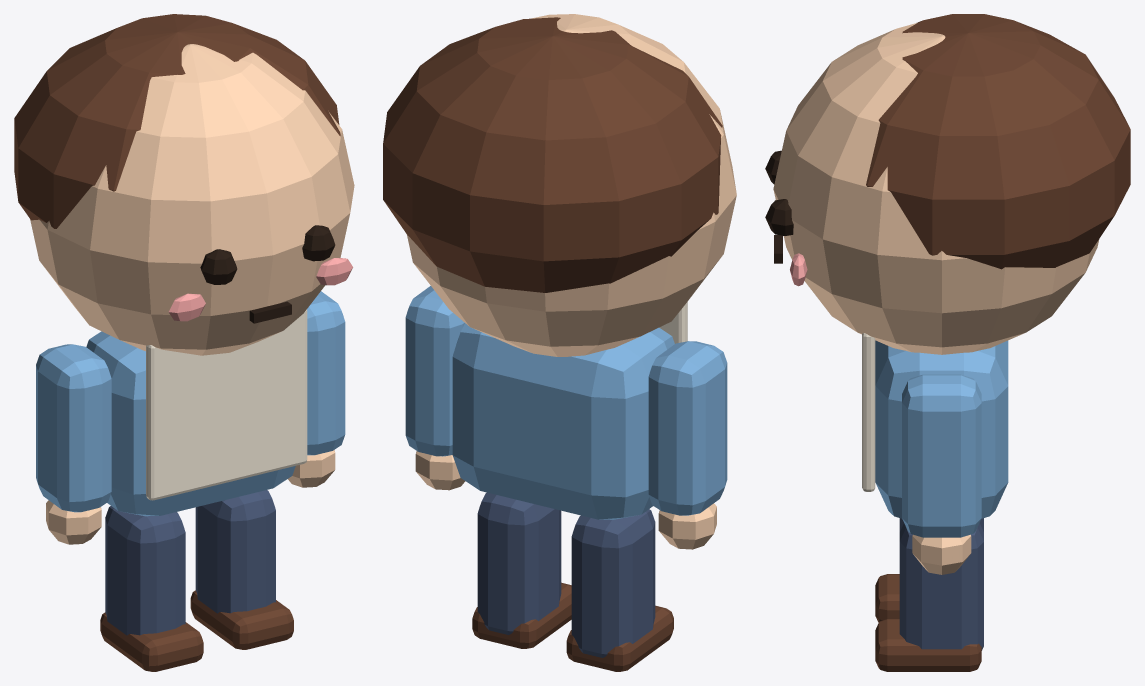
The model's file is kar_penjaga_laundry.fbx.
3 renders of one model, left to right at view 1: azimuth 30°, elevation 25°; view 2: azimuth 150°, elevation 25°; view 3: azimuth 270°, elevation 25°, orthographic. The views are drawn at different scales.
Parts seen in each view (by area): view 1: kar_penjaga_laundry; view 2: kar_penjaga_laundry; view 3: kar_penjaga_laundry.
Part boxes in pixels (left/top/right/bottom): kar_penjaga_laundry: left=14, top=14, right=354, bottom=671; kar_penjaga_laundry: left=383, top=14, right=736, bottom=671; kar_penjaga_laundry: left=765, top=14, right=1130, bottom=671.
Bounding box in the file's own units: 76 × 151 × 82.44.
1 material, 1 textured.
